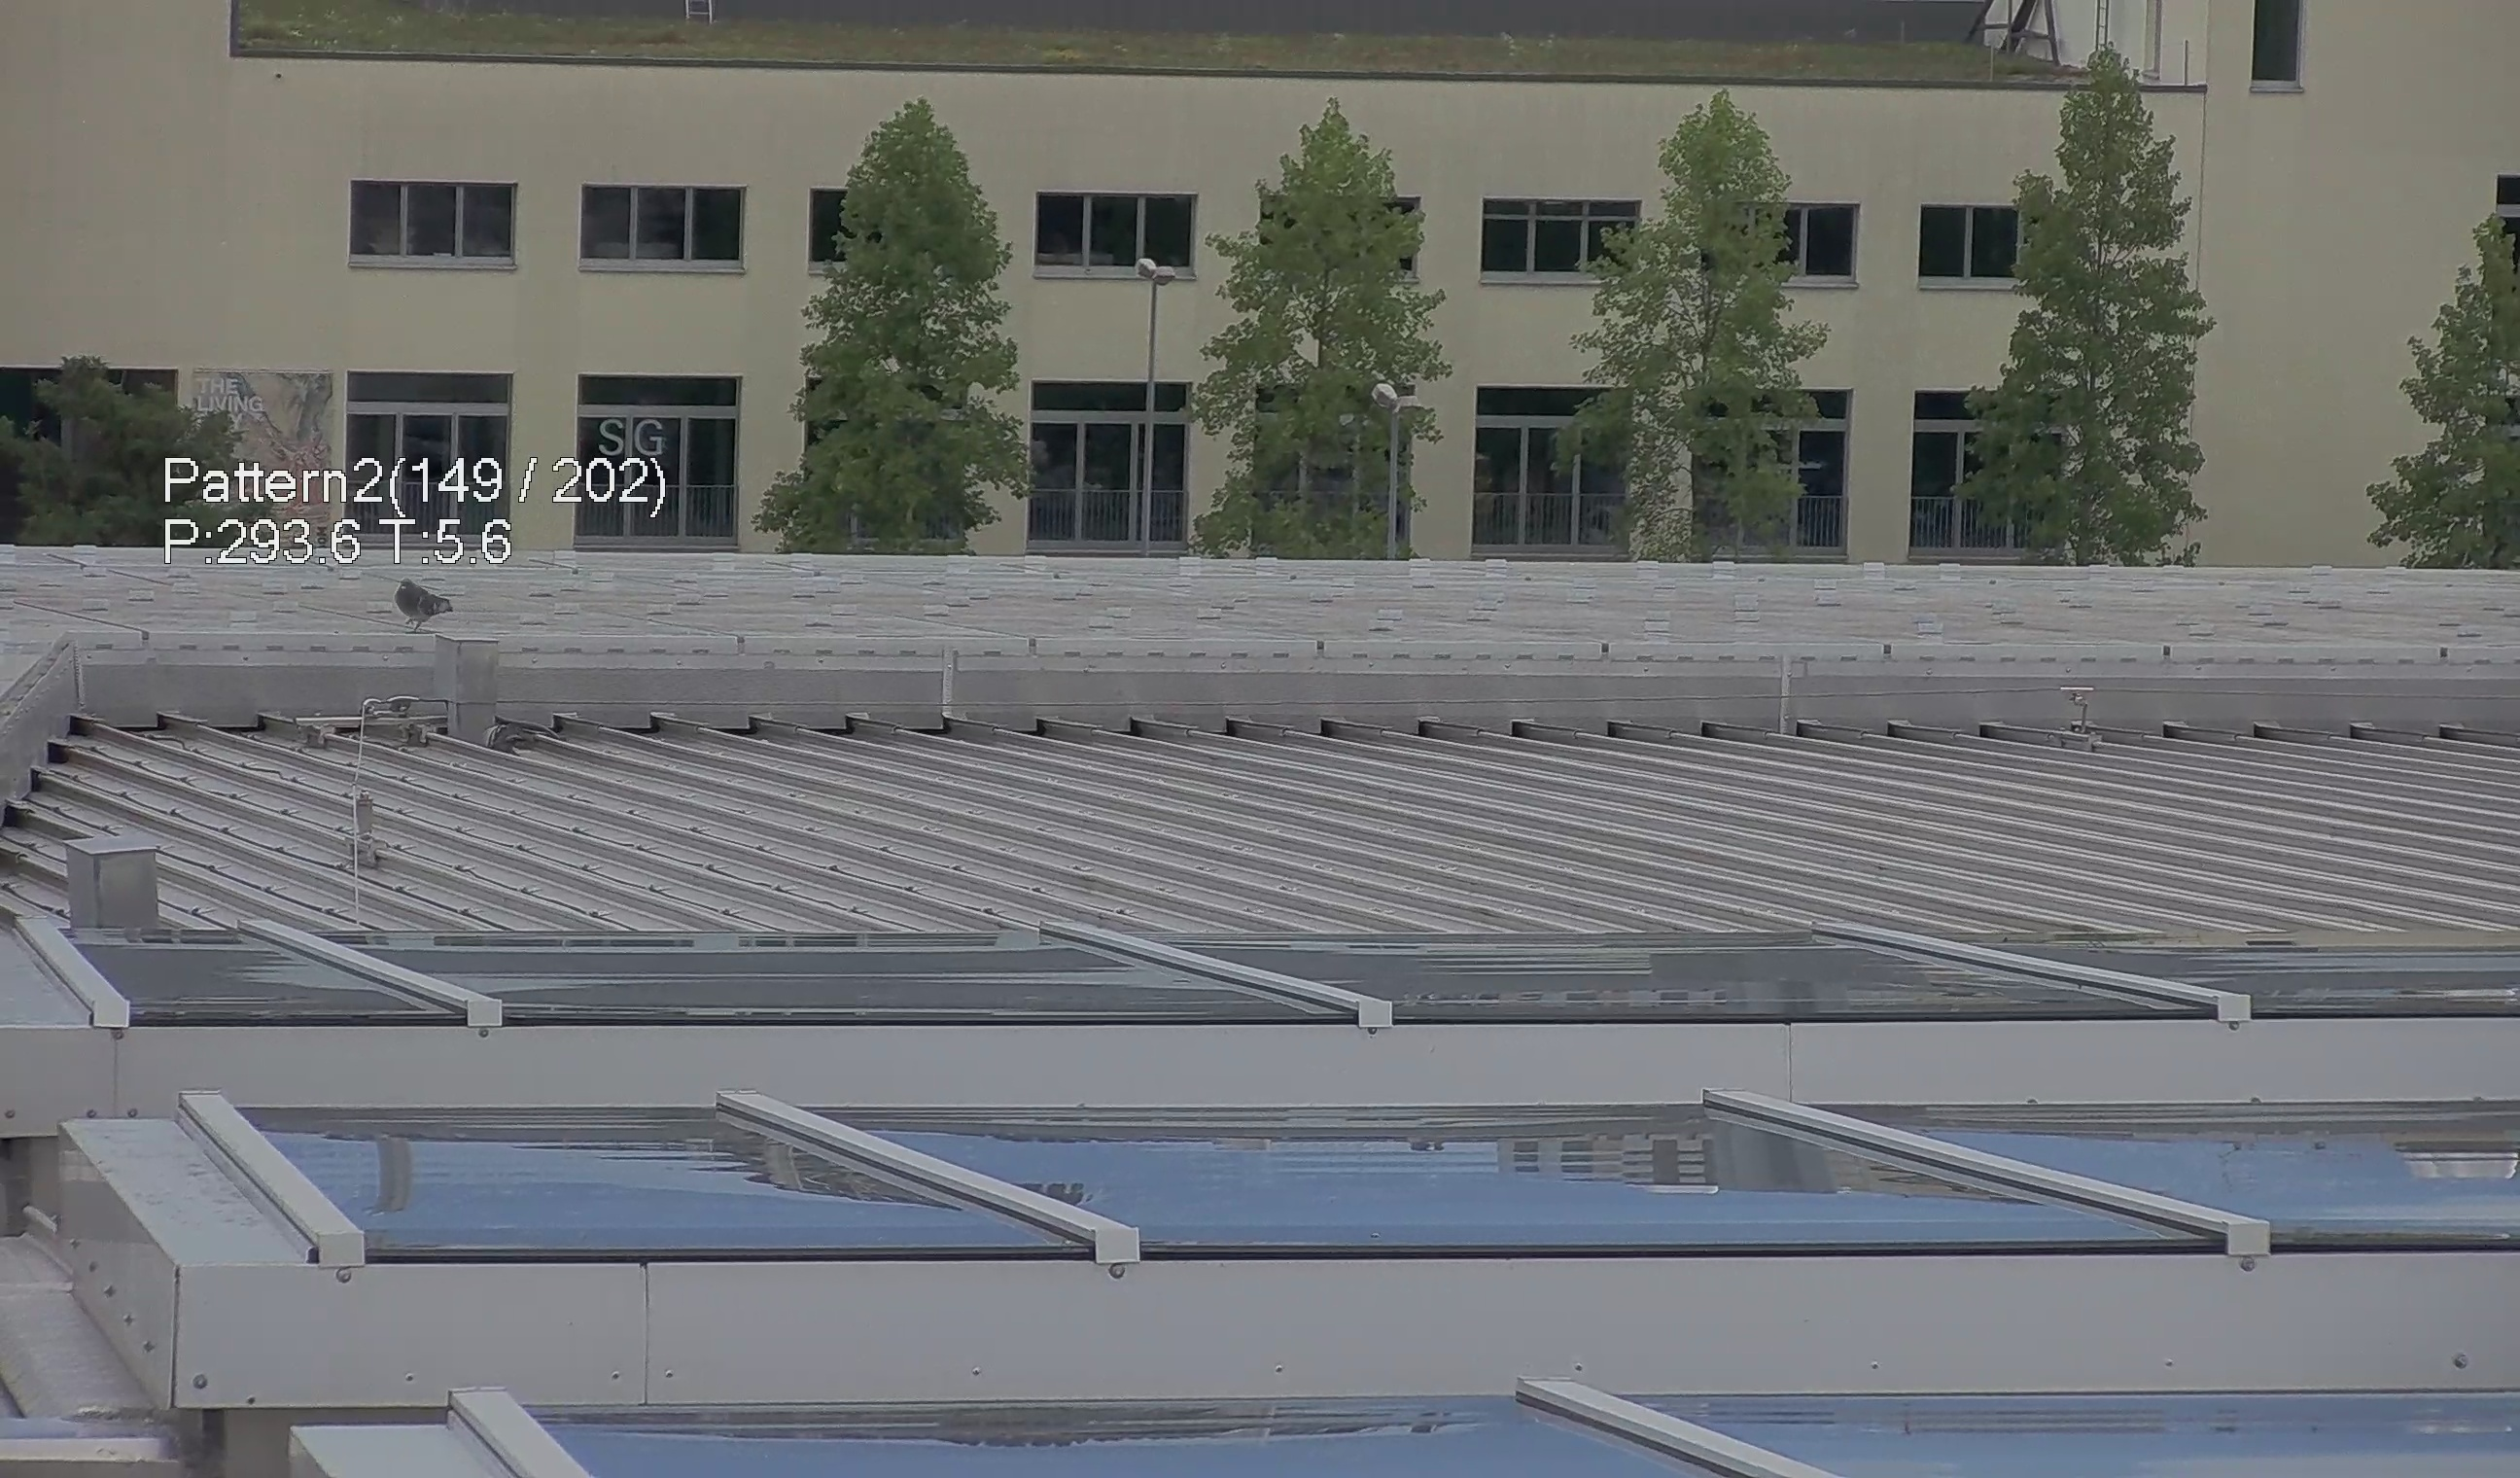Pigeon: (373, 565, 448, 639), (484, 713, 538, 762)
